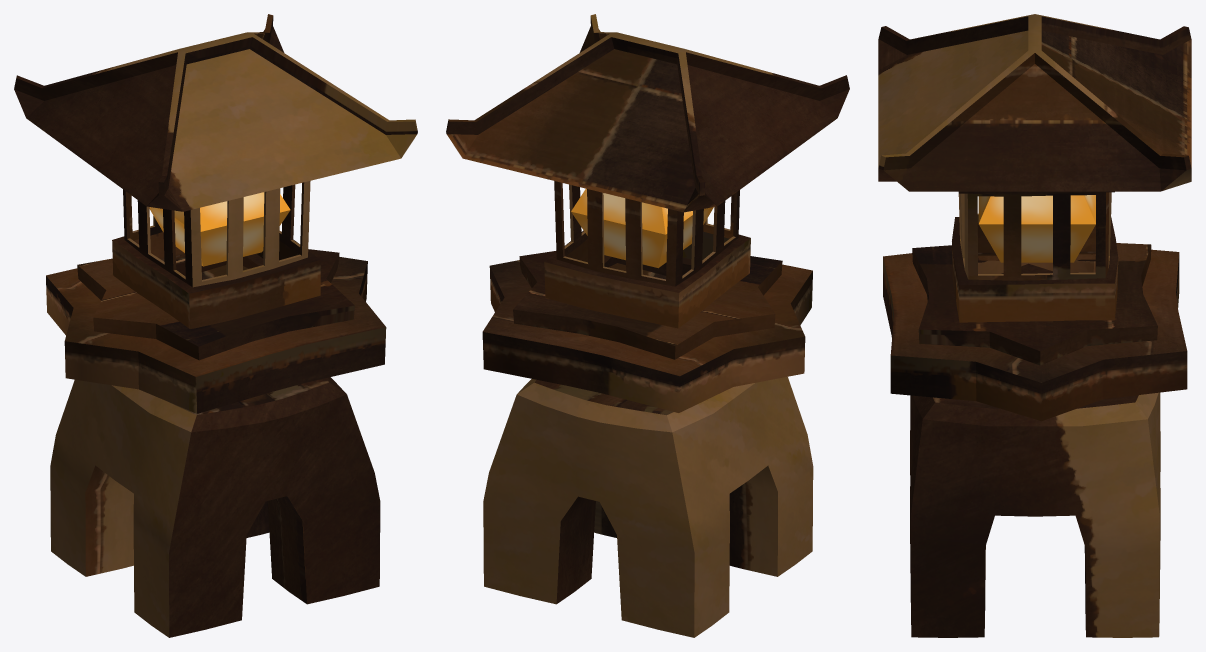
The model's file is Stone_Lamp.fbx.
3 renders of one model, left to right at view 1: azimuth 30°, elevation 25°; view 2: azimuth 150°, elevation 25°; view 3: azimuth 270°, elevation 25°, orthographic. The views are drawn at different scales.
Parts seen in each view (by area): view 1: pasted__Stone_Lantern12, pasted__pCube25, polySurface151; view 2: pasted__Stone_Lantern12, pasted__pCube25, polySurface151; view 3: pasted__Stone_Lantern12, pasted__pCube25, polySurface151.
Boxes of the visible parts, x1,y1,x2,y2 form: pasted__Stone_Lantern12: (46, 181, 386, 637); pasted__pCube25: (14, 14, 417, 211); polySurface151: (149, 192, 290, 266); pasted__Stone_Lantern12: (482, 181, 813, 637); pasted__pCube25: (446, 14, 849, 212); polySurface151: (571, 188, 713, 268); pasted__Stone_Lantern12: (883, 191, 1187, 637); pasted__pCube25: (878, 14, 1191, 191); polySurface151: (978, 195, 1095, 262).
Bounding box in the file's own units: 8.94 × 14.56 × 7.48.
